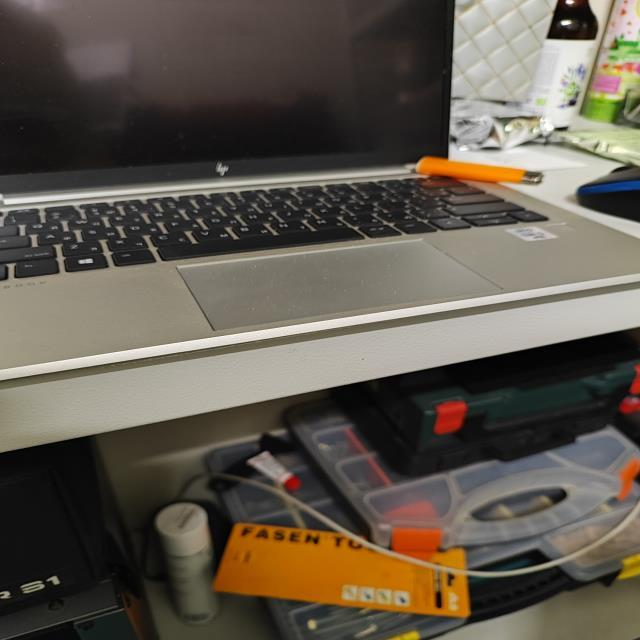lighter: (415, 157, 543, 184)
